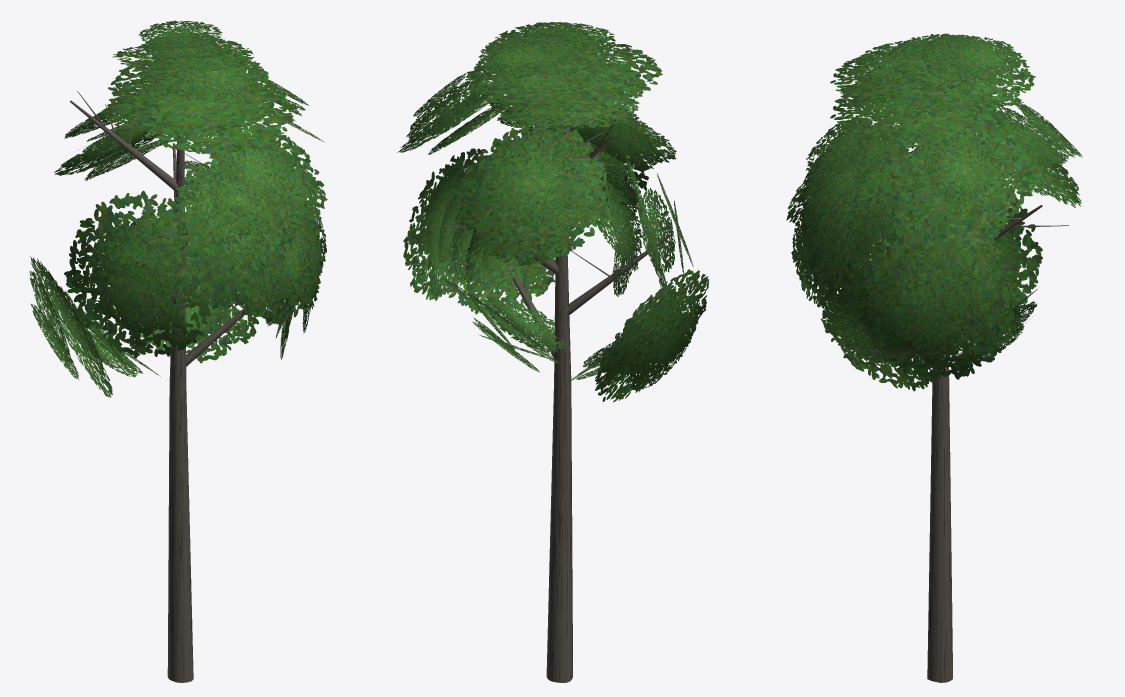
Rendered from Alder_LOD0.fbx.
3 views of the same model, side by side, from view 1: azimuth 30°, elevation 25°; view 2: azimuth 150°, elevation 25°; view 3: azimuth 270°, elevation 25° (orthographic).
Visible parts, largest first — view 1: Alder_LOD0; view 2: Alder_LOD0; view 3: Alder_LOD0.
Part boxes in pixels (left/top/right/bottom): Alder_LOD0: left=29, top=20, right=327, bottom=682; Alder_LOD0: left=397, top=22, right=709, bottom=682; Alder_LOD0: left=786, top=33, right=1082, bottom=682.
Bounding box in the file's own units: 7.41 × 14.97 × 7.28.
1 material, 1 textured.
